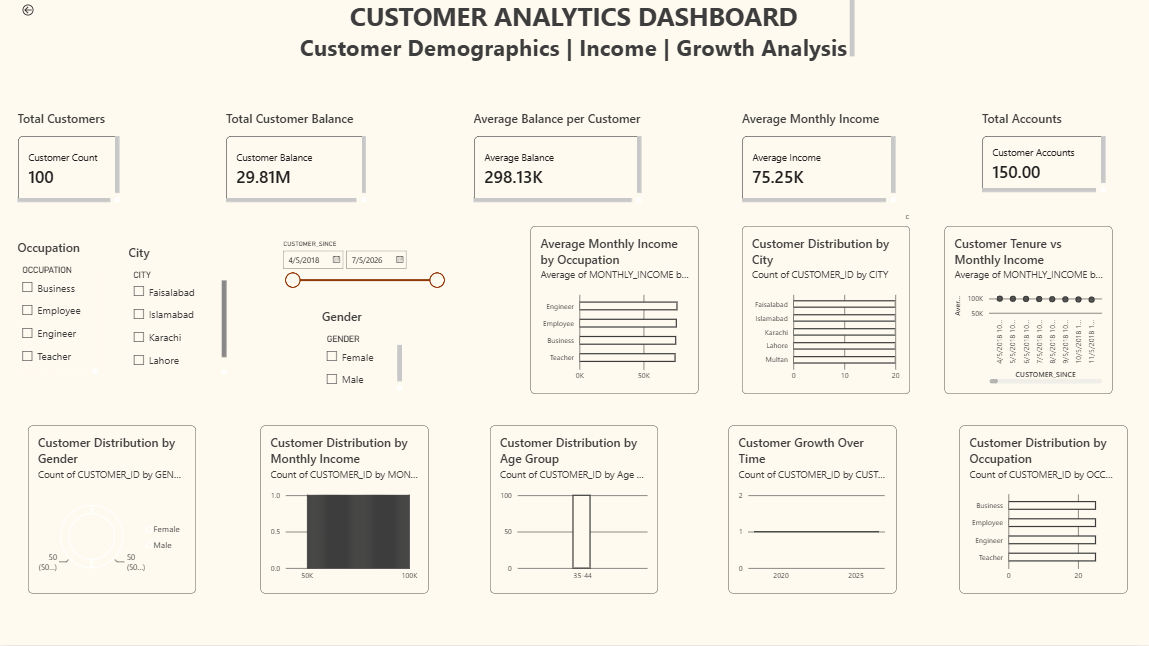

Layout of this report page (visuals, bound fields, positions):
{"tool":"powerbi","page":{"name":"CUSTOMER DASHBOARD","canvas":[1920,1080],"ordinal":1},"visuals":[{"type":"cardVisual","title":"Total Customers","fields":{"Data":["ACCOUNTS.Customer Count"]},"box":[33.3,186.7,170,153.3],"z":0},{"type":"cardVisual","title":"Total Customer Balance","fields":{"Data":["ACCOUNTS.Customer Balance"]},"box":[380,186.7,233.3,153.3],"z":1000},{"type":"cardVisual","title":"Total Accounts","fields":{"Data":["ACCOUNTS.Customer Accounts"]},"box":[1640,186.7,206.7,136.7],"z":2000},{"type":"cardVisual","title":"Average Monthly Income","fields":{"Data":["ACCOUNTS.Average Income"]},"box":[1240,186.7,256.7,153.3],"z":3000},{"type":"cardVisual","title":"Average Balance per Customer","fields":{"Data":["ACCOUNTS.Average Balance"]},"box":[793.3,186.7,280,153.3],"z":4000},{"type":"slicer","title":"Gender","fields":{"Values":["CUSTOMERS.GENDER"]},"box":[540,516.7,133.3,136.7],"z":5000},{"type":"slicer","title":"City","fields":{"Values":["CUSTOMERS.CITY"]},"box":[216.7,410,163.3,216.7],"z":6000},{"type":"actionButton","box":[0,0,100,40],"z":7000},{"type":"slicer","title":"Occupation","fields":{"Values":["CUSTOMERS.OCCUPATION"]},"box":[33.3,403.3,133.3,223.3],"z":8000},{"type":"slicer","fields":{"Values":["CUSTOMERS.CUSTOMER_SINCE"]},"box":[466.7,403.3,280,100],"z":9000},{"type":"donutChart","title":"Customer Distribution by Gender","fields":{"Category":["CUSTOMERS.GENDER"],"Y":["CountNonNull(CUSTOMERS.CUSTOMER_ID)"]},"box":[50,713.3,280,280],"z":10000},{"type":"clusteredBarChart","title":"Customer Distribution by City","fields":{"Category":["CUSTOMERS.CITY"],"Y":["CountNonNull(CUSTOMERS.CUSTOMER_ID)"]},"box":[1240,380,280,280],"z":11000},{"type":"clusteredBarChart","title":"Customer Distribution by Occupation","fields":{"Category":["CUSTOMERS.OCCUPATION"],"Y":["CountNonNull(CUSTOMERS.CUSTOMER_ID)"]},"box":[1603.3,713.3,280,280],"z":12000},{"type":"clusteredColumnChart","title":"Customer Distribution by Monthly Income","fields":{"Category":["CUSTOMERS.MONTHLY_INCOME"],"Y":["CountNonNull(CUSTOMERS.CUSTOMER_ID)"]},"box":[436.7,713.3,280,280],"z":13000},{"type":"lineChart","title":"Customer Growth Over Time","fields":{"Category":["CUSTOMERS.CUSTOMER_SINCE"],"Y":["CountNonNull(CUSTOMERS.CUSTOMER_ID)"]},"box":[1216.7,713.3,280,280],"z":14000},{"type":"clusteredBarChart","title":"Average Monthly Income by Occupation","fields":{"Category":["CUSTOMERS.OCCUPATION"],"Y":["Avg(CUSTOMERS.MONTHLY_INCOME)"]},"box":[886.7,380,280,280],"z":15000},{"type":"clusteredColumnChart","title":"Customer Distribution by Age Group","fields":{"Category":["CUSTOMERS.Age Group"],"Y":["CountNonNull(CUSTOMERS.CUSTOMER_ID)"]},"box":[820,713.3,280,280],"z":16000},{"type":"scatterChart","title":"Customer Tenure vs Monthly Income","fields":{"X":["CUSTOMERS.CUSTOMER_SINCE"],"Y":["Avg(CUSTOMERS.MONTHLY_INCOME)"]},"box":[1576.7,380,280,280],"z":17000},{"type":"textbox","box":[1513,353,280,280],"z":18000},{"type":"textbox","box":[496.7,0,930,110],"z":19000}]}

Visuals, with their boxes in screenshot pixels (x1, y1, x2, y2), scaled from the page's 1920x1080 canvas onto the 1149x646 screenshot:
"Total Customers" cardVisual: {"left": 20, "top": 112, "right": 122, "bottom": 203}
"Total Customer Balance" cardVisual: {"left": 227, "top": 112, "right": 367, "bottom": 203}
"Total Accounts" cardVisual: {"left": 981, "top": 112, "right": 1105, "bottom": 193}
"Average Monthly Income" cardVisual: {"left": 742, "top": 112, "right": 896, "bottom": 203}
"Average Balance per Customer" cardVisual: {"left": 475, "top": 112, "right": 642, "bottom": 203}
"Gender" slicer: {"left": 323, "top": 309, "right": 403, "bottom": 391}
"City" slicer: {"left": 130, "top": 245, "right": 227, "bottom": 375}
actionButton: {"left": 0, "top": 0, "right": 60, "bottom": 24}
"Occupation" slicer: {"left": 20, "top": 241, "right": 100, "bottom": 375}
slicer - CUSTOMERS.CUSTOMER_SINCE: {"left": 279, "top": 241, "right": 447, "bottom": 301}
"Customer Distribution by Gender" donutChart: {"left": 30, "top": 427, "right": 197, "bottom": 594}
"Customer Distribution by City" clusteredBarChart: {"left": 742, "top": 227, "right": 910, "bottom": 395}
"Customer Distribution by Occupation" clusteredBarChart: {"left": 959, "top": 427, "right": 1127, "bottom": 594}
"Customer Distribution by Monthly Income" clusteredColumnChart: {"left": 261, "top": 427, "right": 429, "bottom": 594}
"Customer Growth Over Time" lineChart: {"left": 728, "top": 427, "right": 896, "bottom": 594}
"Average Monthly Income by Occupation" clusteredBarChart: {"left": 531, "top": 227, "right": 698, "bottom": 395}
"Customer Distribution by Age Group" clusteredColumnChart: {"left": 491, "top": 427, "right": 658, "bottom": 594}
"Customer Tenure vs Monthly Income" scatterChart: {"left": 944, "top": 227, "right": 1111, "bottom": 395}
textbox: {"left": 905, "top": 211, "right": 1073, "bottom": 379}
textbox: {"left": 297, "top": 0, "right": 854, "bottom": 66}
